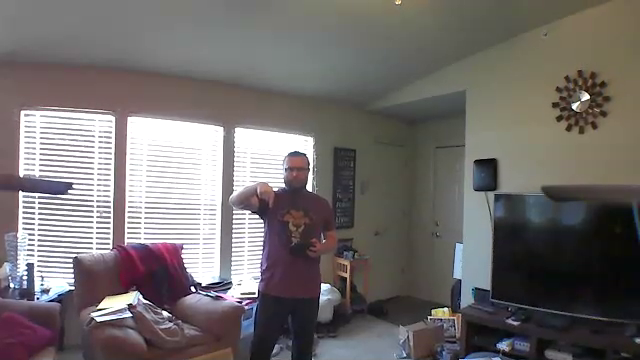down: (255, 180, 277, 215)
